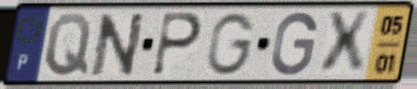G: (268, 10, 320, 78), (205, 11, 258, 77)
N: (89, 10, 148, 79)
P: (149, 11, 205, 79)
Q: (42, 11, 94, 79)
X: (318, 9, 373, 78)
